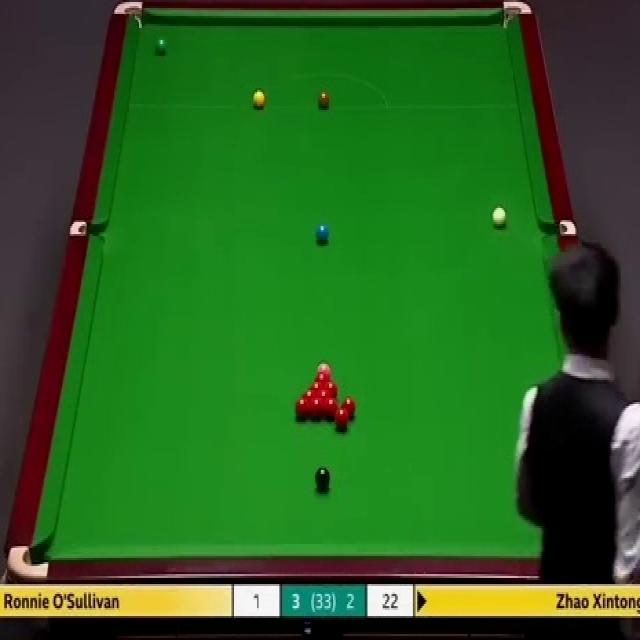black-ball: (315, 467, 330, 494)
blue-ball: (314, 223, 329, 246)
brown-ball: (317, 88, 330, 110)
green-ball: (154, 37, 168, 56)
pink-ball: (317, 360, 331, 376)
red-ball: (342, 395, 357, 421), (334, 406, 350, 430), (323, 397, 338, 421), (295, 398, 308, 421), (309, 396, 322, 419), (324, 380, 339, 396), (309, 379, 325, 390), (316, 388, 333, 398), (315, 373, 331, 382), (302, 387, 316, 397)
white-ball: (490, 201, 508, 229)
yellow-ball: (252, 88, 266, 110)
